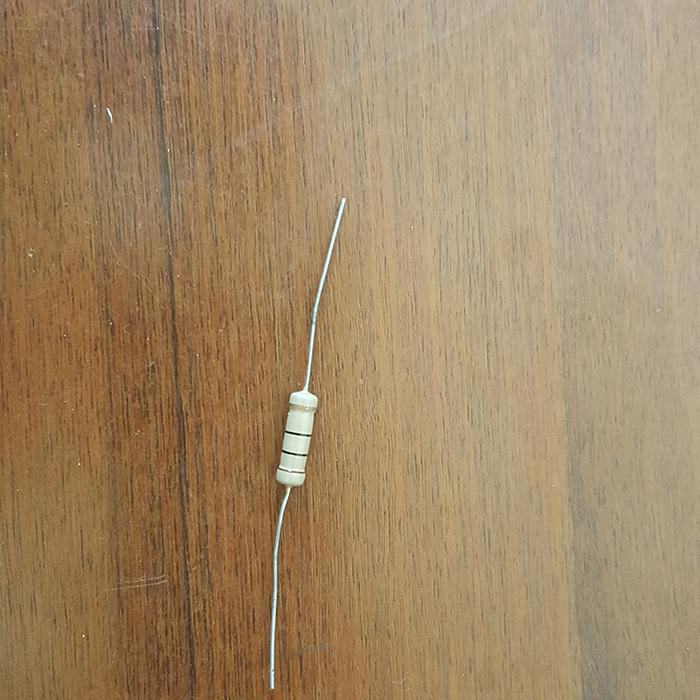resistor: (275, 390, 318, 486)
